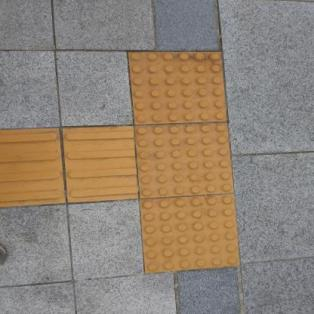Podoctatil: (0, 43, 245, 276)
